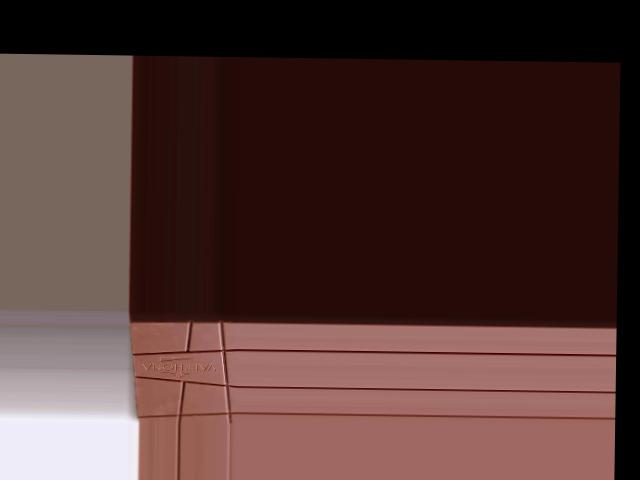chocolate: (125, 315, 238, 423)
